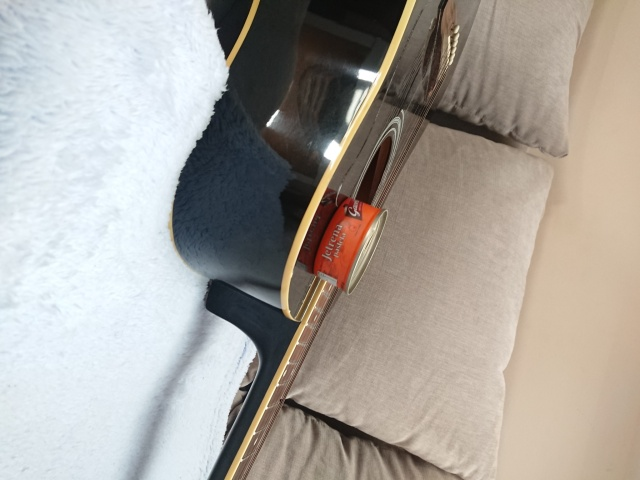Gavrilovic Pork Liver Pate 100g: (310, 193, 390, 297)
